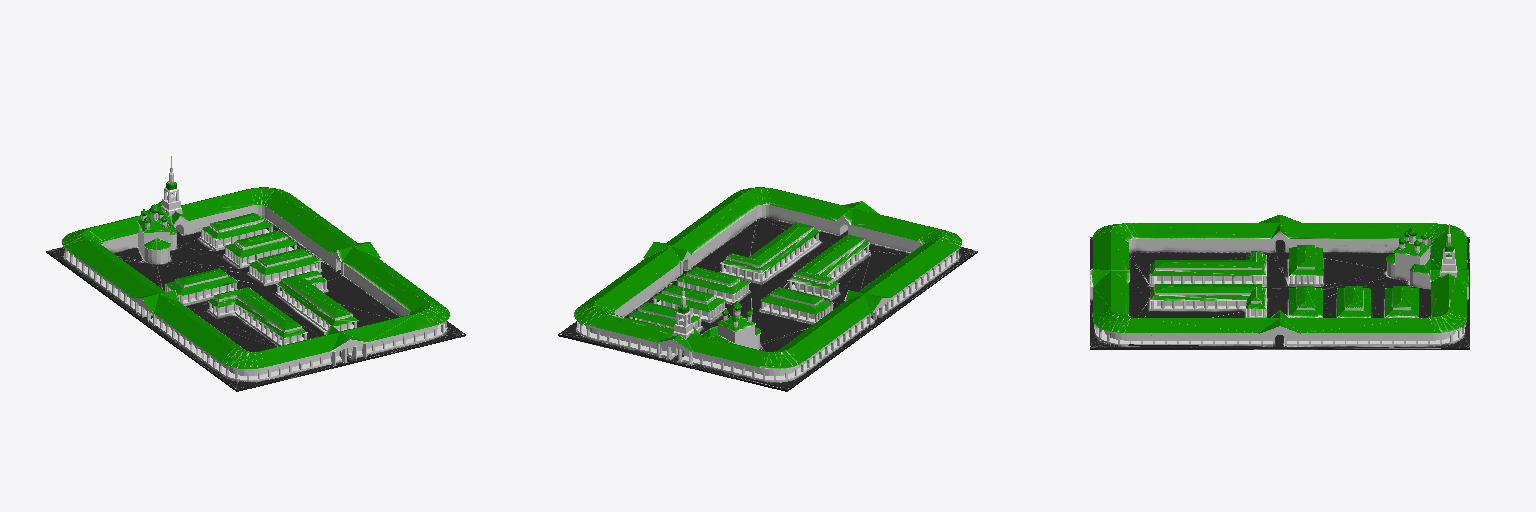
3 views of the same model, side by side, from view 1: azimuth 30°, elevation 25°; view 2: azimuth 150°, elevation 25°; view 3: azimuth 270°, elevation 25° (orthographic).
Visible parts, largest first — view 1: Красные_ряды_2; view 2: Красные_ряды_2; view 3: Красные_ряды_2.
Boxes of the visible parts, box(x1,y1,x2,y2) form: Красные_ряды_2: box(46, 156, 465, 391); Красные_ряды_2: box(558, 187, 977, 391); Красные_ряды_2: box(1090, 215, 1469, 349).
Size of the model in its own units: 1.83 by 0.5905 by 2.64.
1 materials, 1 textured.